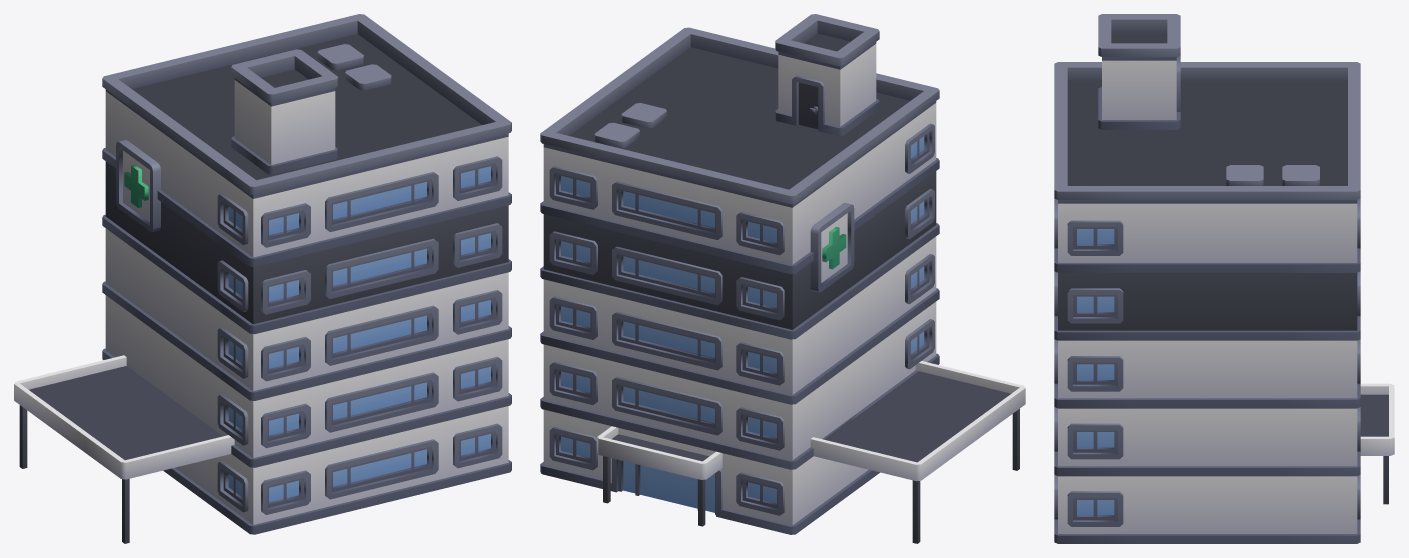
Rendered from building-n.glb.
3 renders of one model, left to right at view 1: azimuth 30°, elevation 25°; view 2: azimuth 150°, elevation 25°; view 3: azimuth 270°, elevation 25°, orthographic. The views are drawn at different scales.
Parts seen in each view (by area): view 1: building-n; view 2: building-n; view 3: building-n.
Boxes of the visible parts, box(x1,y1,x2,y2) form: building-n: box(14, 14, 511, 543); building-n: box(540, 14, 1025, 543); building-n: box(1054, 14, 1394, 543).
Bounding box in the file's own units: 2.32 × 2.48 × 1.82.
1 material, 1 textured.
